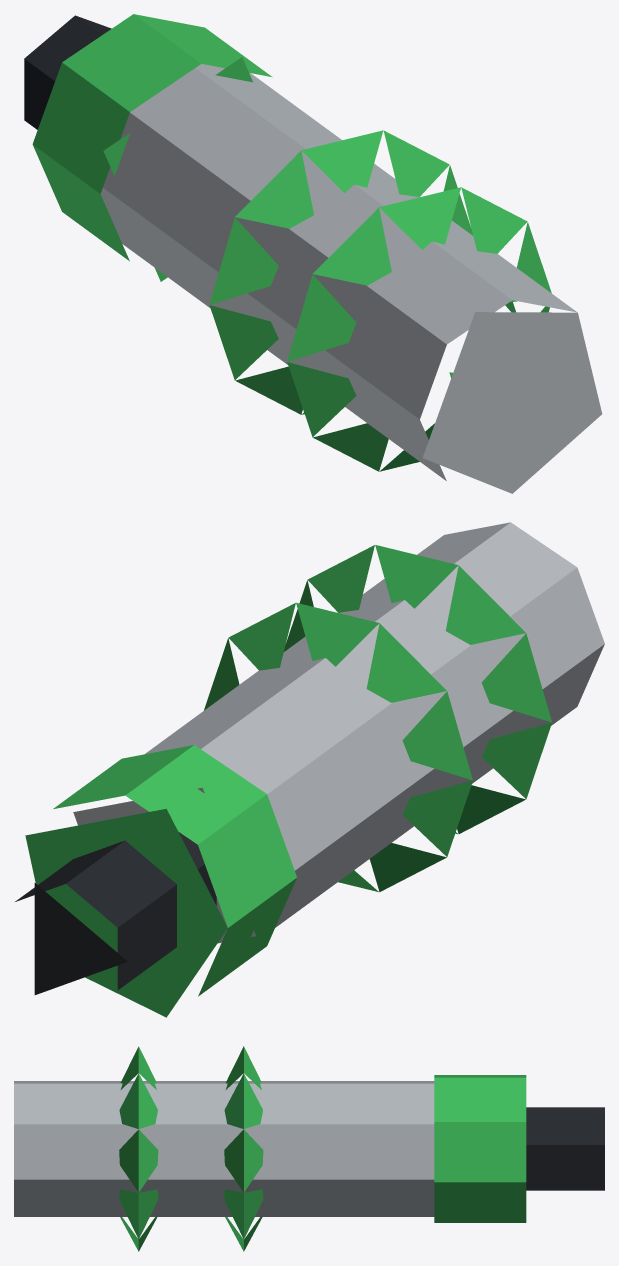
The model's file is stim-dexterity.lod.glb.
3 renders of one model, top to bottom at view 1: azimuth 30°, elevation 25°; view 2: azimuth 150°, elevation 25°; view 3: azimuth 270°, elevation 25°, orthographic. The views are drawn at different scales.
Visible parts, largest first — view 1: m; view 2: m; view 3: m.
Boxes of the visible parts, <box> form: m: <box>24,14,602,493</box>; m: <box>15,522,604,1017</box>; m: <box>14,1046,604,1251</box>.
Size of the model in its own units: 0.0235 by 0.0224 by 0.0669.
